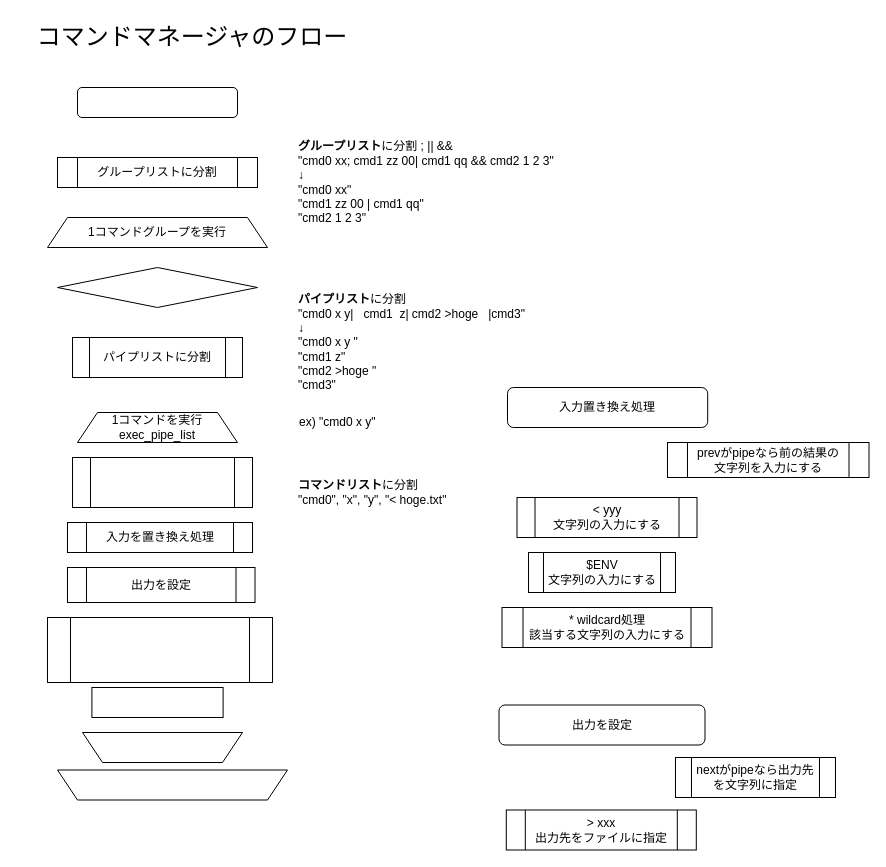
Some shapes in this 886 by 867 pixel diagram are drawn without their labels. The shapes that lost their labels are listed below. From the top down, each one's centre as x and y in pixels, then its label:
At pixel 157 102: "readの文字列を受け取る input_prompt".
At pixel 157 287: "||や&&なら結果を受けて実行するかを判定 continue;".
At pixel 162 482: "コマンドリストに分割".
At pixel 159 649: "今は、sh_execute exec_commandに変更予定 (コマンドリスト, 出力先指定)".
At pixel 157 702: "結果を$?に格納".
